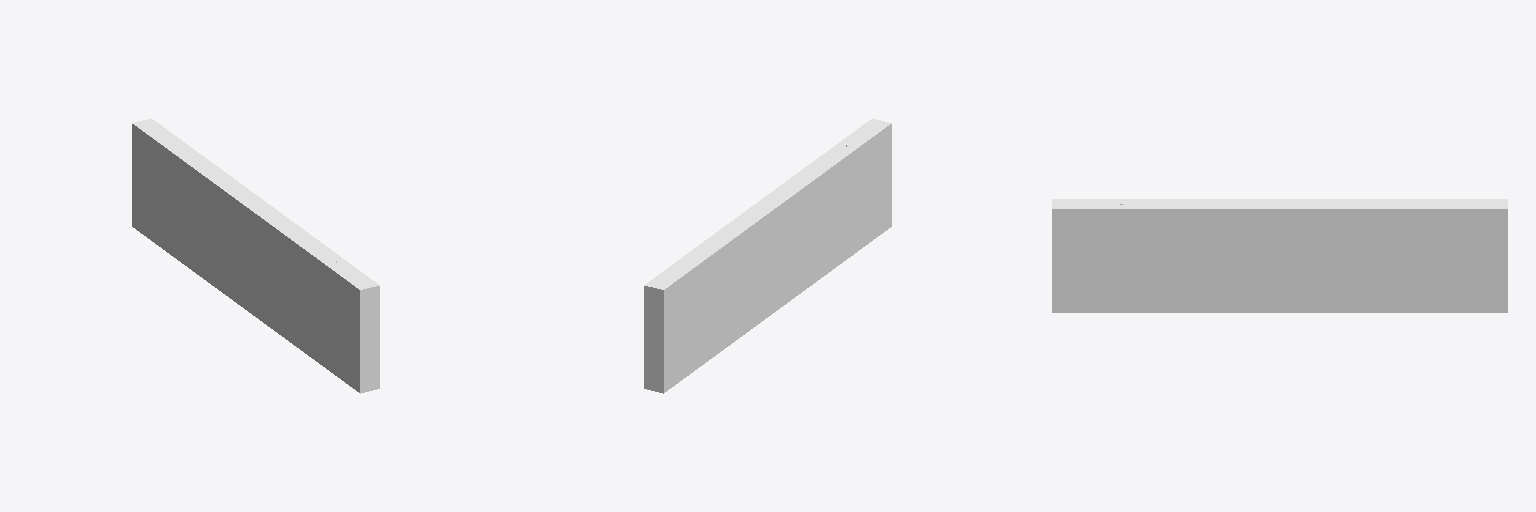
File: room4_wall_right.obj
3 views of the same model, side by side, from view 1: azimuth 30°, elevation 25°; view 2: azimuth 150°, elevation 25°; view 3: azimuth 270°, elevation 25° (orthographic).
Parts seen in each view (by area): view 1: object 1; view 2: object 1; view 3: object 1.
Boxes of the visible parts, box(x1,y1,x2,y2) form: object 1: box(132, 118, 379, 393); object 1: box(644, 118, 891, 393); object 1: box(1052, 199, 1507, 312).
Size of the model in its own units: 1 by 5 by 20.